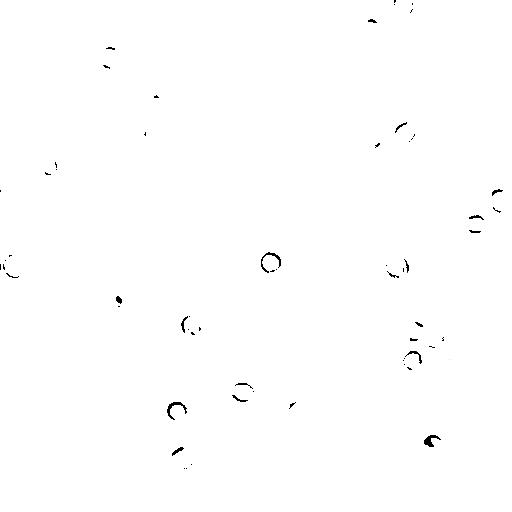micro-algae: (103, 284, 138, 317), (96, 231, 125, 267), (92, 282, 122, 308), (284, 399, 312, 426), (385, 252, 412, 279), (3, 252, 30, 278), (394, 117, 419, 145), (489, 185, 512, 215), (383, 495, 423, 512), (170, 445, 196, 470), (230, 380, 257, 403), (401, 320, 427, 343), (143, 125, 166, 150), (99, 46, 123, 69), (260, 252, 284, 275), (401, 349, 424, 373), (464, 213, 489, 235), (15, 304, 41, 325), (284, 370, 303, 398), (180, 314, 203, 337), (360, 131, 385, 151), (167, 400, 189, 422), (425, 327, 447, 349), (361, 18, 382, 39), (167, 254, 188, 275), (39, 155, 59, 177), (289, 12, 314, 29), (392, 0, 417, 16), (421, 433, 445, 449), (440, 354, 452, 371)
